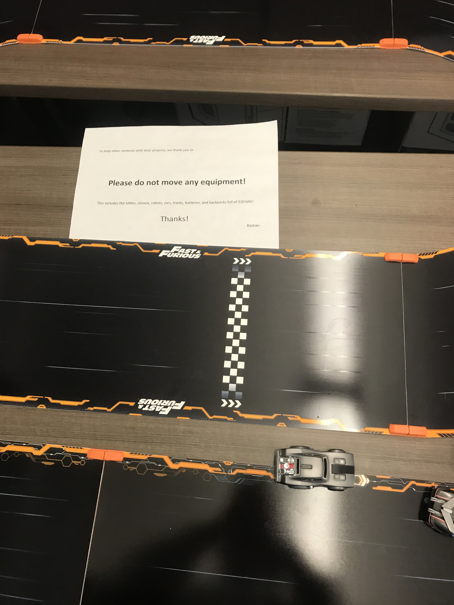Charger: (274, 444, 355, 490)
Finish Line: (220, 256, 252, 409)
